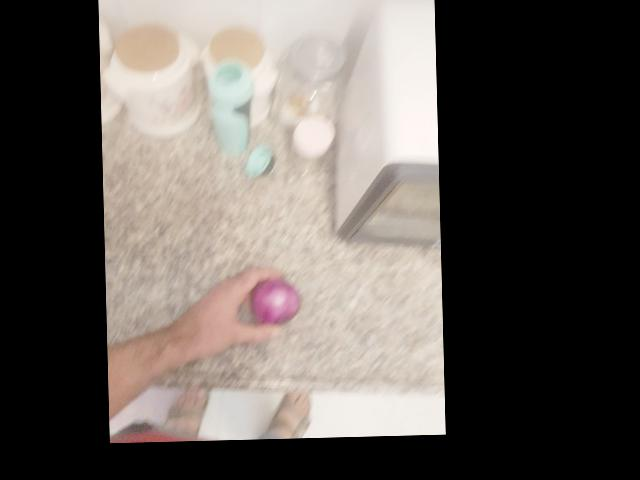onion: (384, 124, 437, 168)
